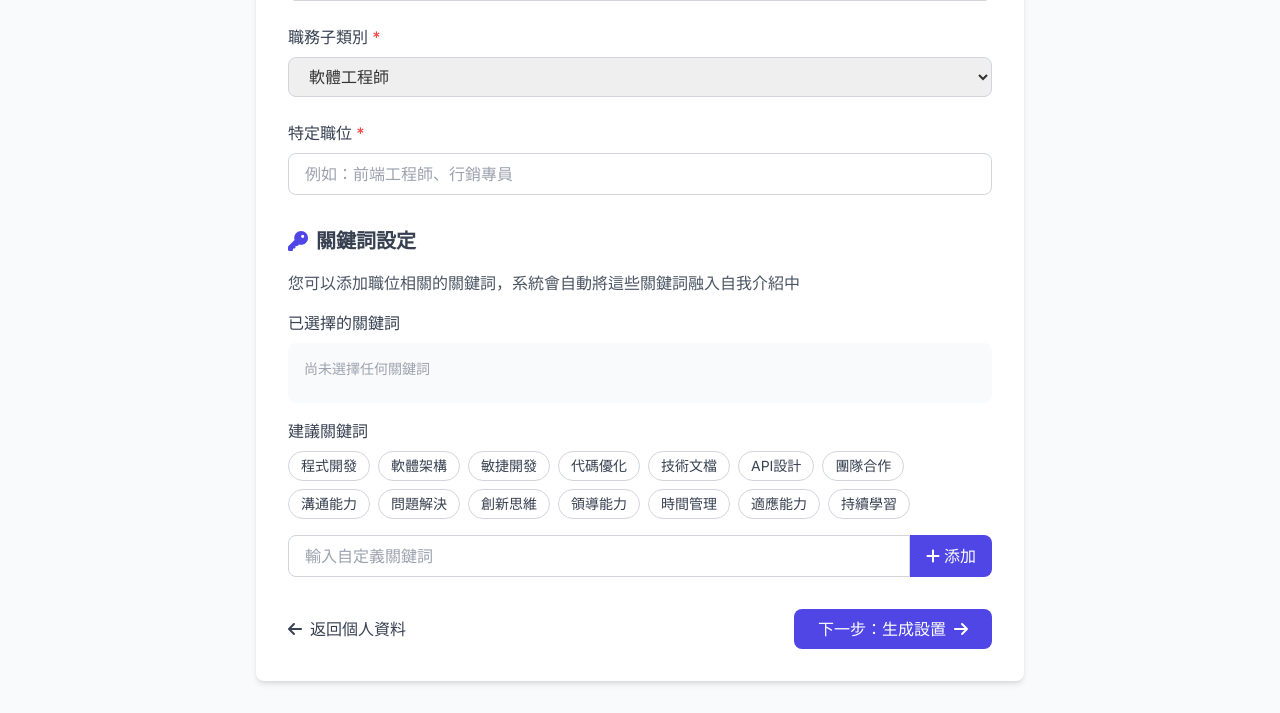
Test: Industry Page Validation › should show validation error when specific position is missing
(page scrolled)
# Find next button and click it
Click the button "下一步：生成設置": x=893, y=629 [794, 609, 992, 649]
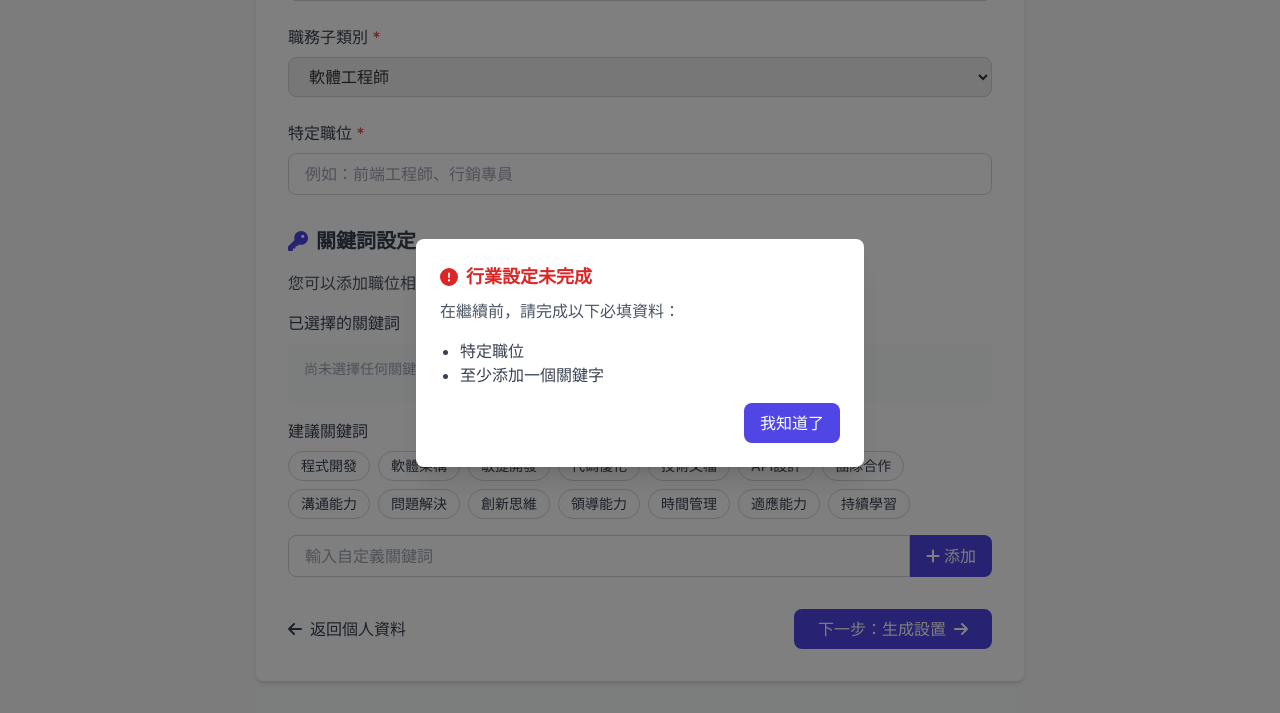
Result: the heading "行業設定未完成" is shown at [440, 266, 592, 287]
Result: the text "行業設定未完成" is shown at [466, 266, 592, 287]
